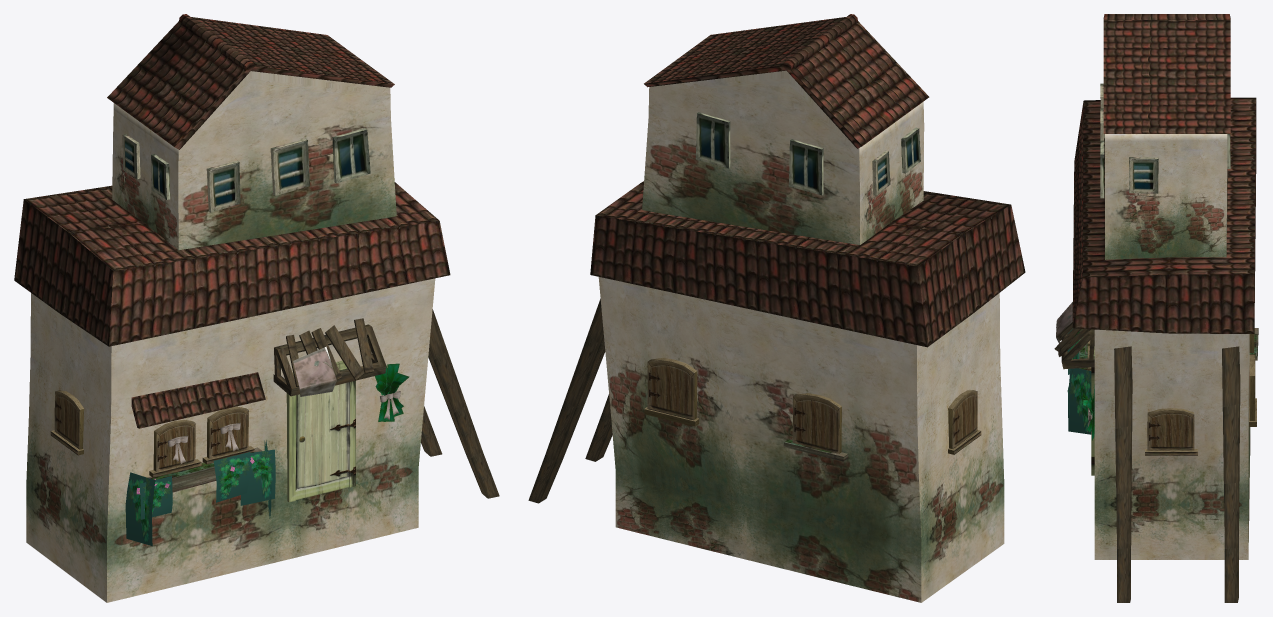
Rendered from spanish_npc_house_k_exterior.fbx.
3 views of the same model, side by side, from view 1: azimuth 30°, elevation 25°; view 2: azimuth 150°, elevation 25°; view 3: azimuth 270°, elevation 25° (orthographic). The views are drawn at different scales.
Parts seen in each view (by area): view 1: polySurface341, roof_lower, top_floor, polySurface338, door_right, roof_sm, support5, awning_frame, window1, window2, window.001, window51 (+11 smaller); view 2: polySurface341, roof_lower, top_floor, polySurface338, support6, window.003, spWin_rndw_wp3, window50, window49, window.002, support5, window47 (+1 smaller); view 3: polySurface341, roof_lower, polySurface338, top_floor, support6, support5, window.004, vine17, window46, awning_frame, window.003, awning2 (+2 smaller).
Part boxes in pixels (x1,y1,x2,y2): polySurface341: (26, 278, 435, 602); roof_lower: (14, 182, 450, 346); top_floor: (112, 71, 396, 250); polySurface338: (107, 14, 394, 149); door_right: (295, 368, 348, 499); roof_sm: (131, 372, 265, 428); support5: (428, 309, 499, 498); awning_frame: (273, 324, 386, 396); window1: (270, 138, 309, 195); window2: (332, 128, 370, 183); window.001: (153, 419, 195, 471); window51: (207, 406, 248, 458); polySurface341: (598, 277, 1004, 602); roof_lower: (590, 181, 1025, 347); top_floor: (642, 70, 924, 244); polySurface338: (644, 14, 929, 148); support6: (528, 298, 605, 503); window.003: (647, 358, 697, 420); spWin_rndw_wp3: (792, 393, 841, 453); window50: (695, 112, 730, 168); window49: (788, 139, 823, 195); window.002: (948, 390, 977, 448); support5: (585, 394, 612, 461); window47: (901, 127, 920, 173); polySurface341: (1091, 329, 1250, 559); roof_lower: (1072, 97, 1256, 333); polySurface338: (1103, 14, 1230, 133); top_floor: (1105, 134, 1227, 259); support6: (1222, 346, 1240, 602); support5: (1114, 346, 1132, 602); window.004: (1147, 408, 1194, 450); vine17: (1068, 368, 1091, 434); window46: (1129, 157, 1158, 193); awning_frame: (1061, 329, 1094, 369); window.003: (1249, 354, 1255, 420); awning2: (1056, 302, 1072, 343).
Size of the model in its own units: 3698 by 4274 by 1680.
Materials: 3 (3 with a texture image).
